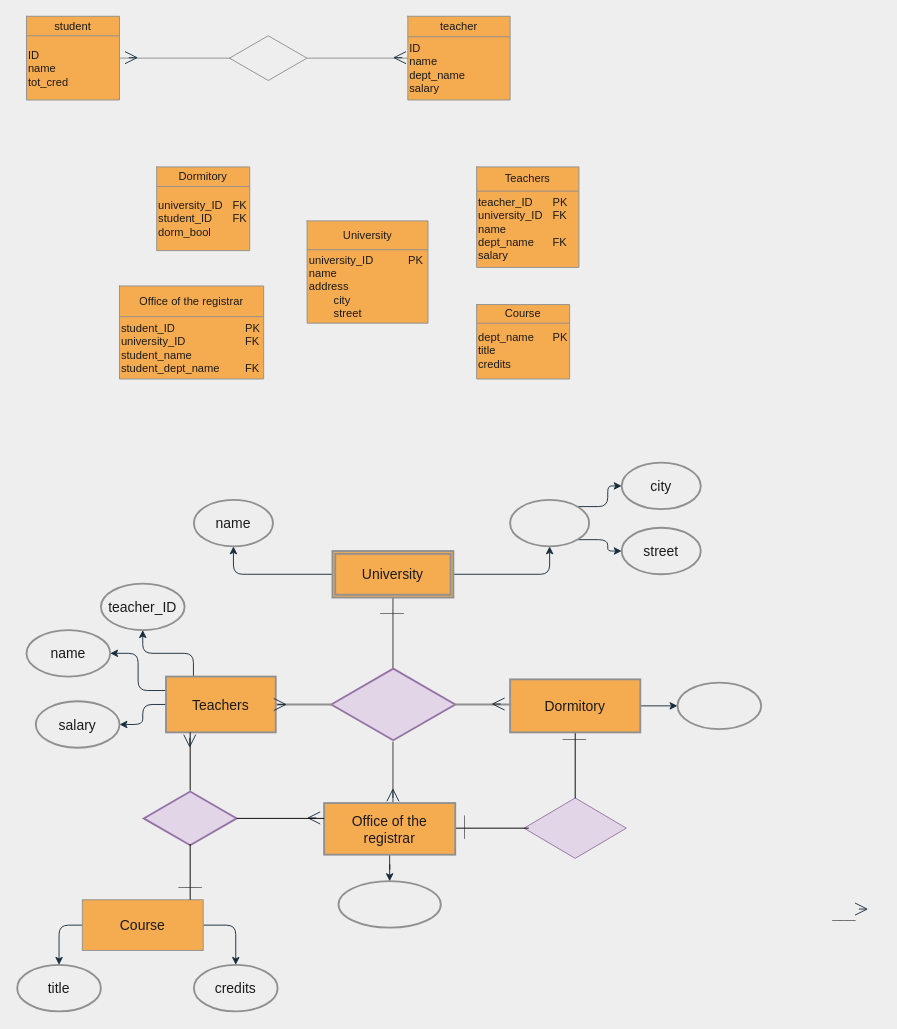
Image size: 897x1029. Some labels were removed from this diagram. The shapes that lost their labels are listed below. From the top down, each one's centre as x and y in pixels, then its label:
At point 268,57: "advisor".
At point 549,522: "address".
At point 393,704: "university_ID".
At point 719,705: "dorm_bool".
At point 189,818: "dept_name".
At point 574,827: "student_ID".
At point 389,904: "student_name".
